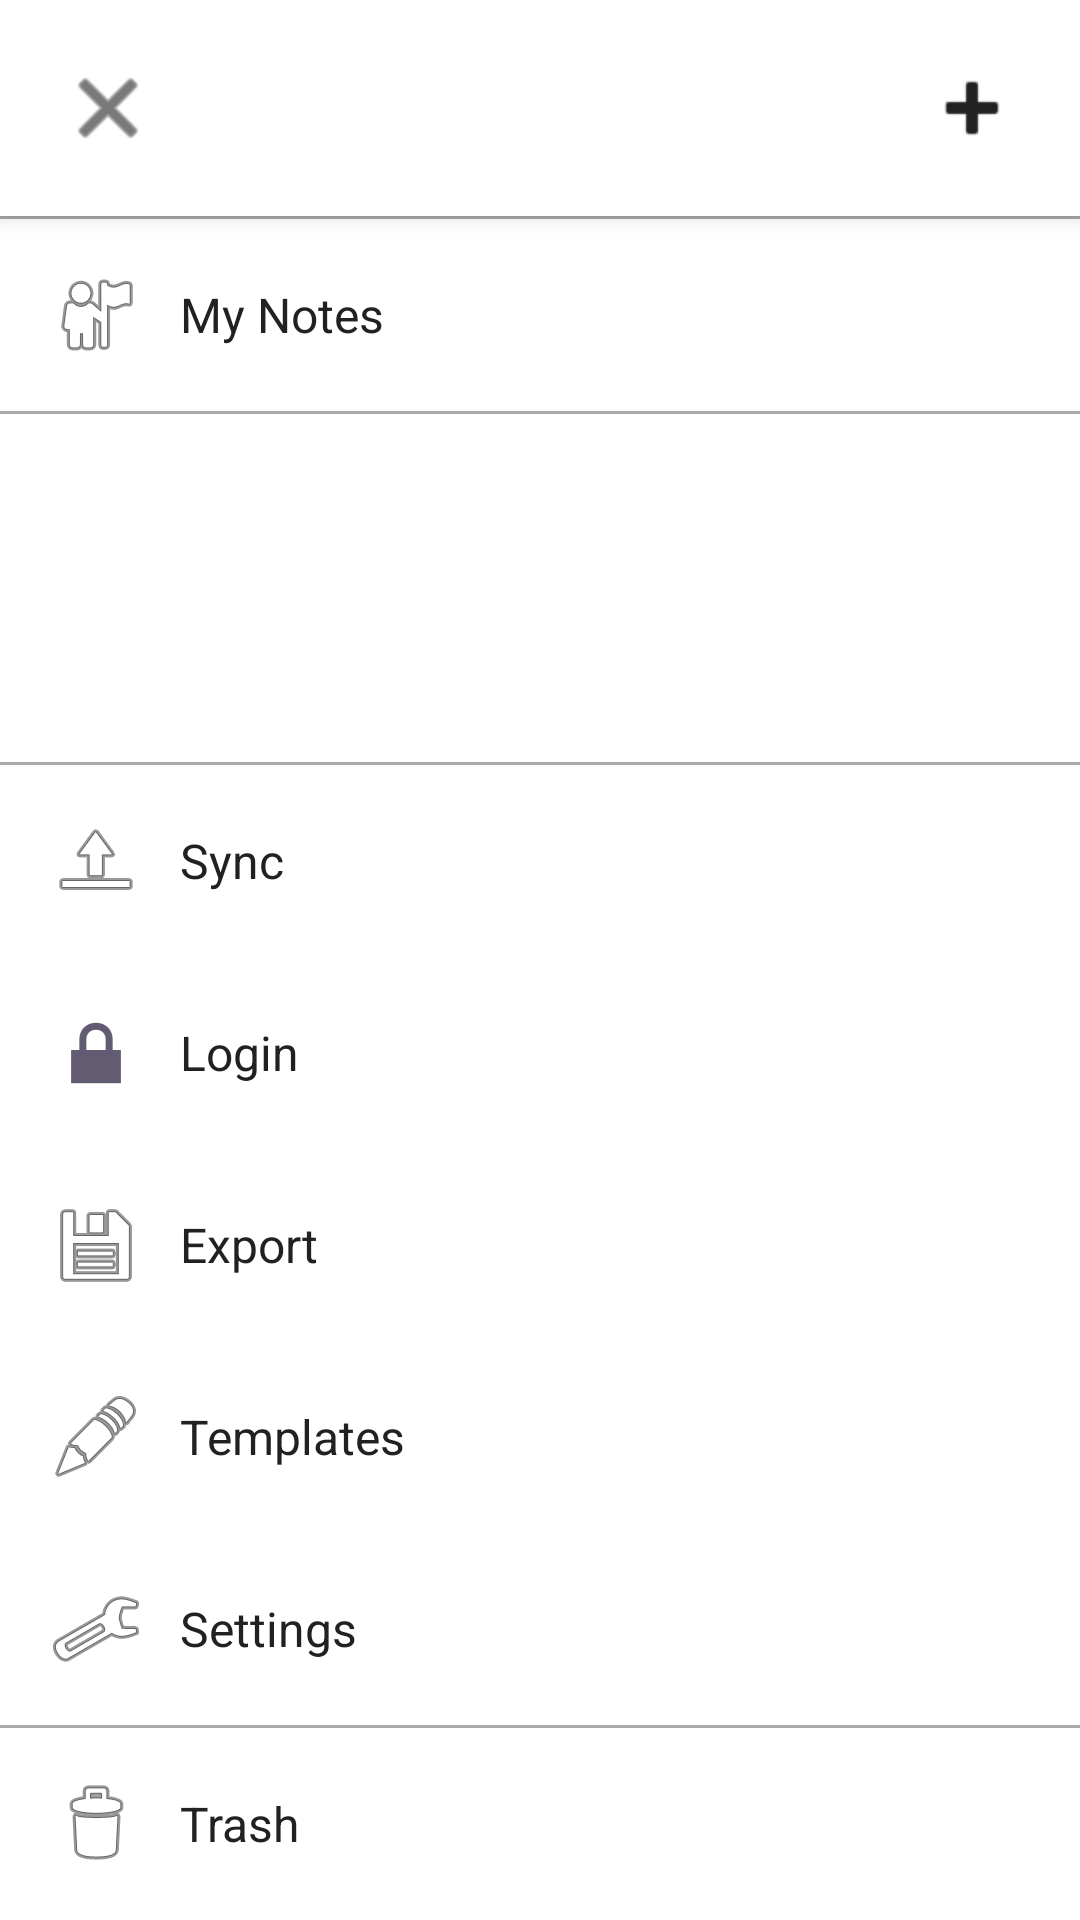

Screen size 1080px x 1920px. Icon name, then its box in pixels as [x1,y1,x2,y2]:
关闭侧栏: [78,78,138,138]
创建文件夹: [945,81,999,135]
